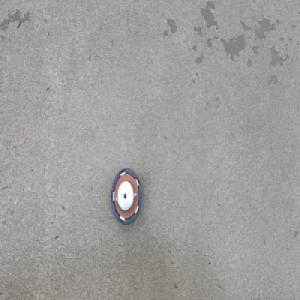FuelCap: (109, 165, 142, 227)
